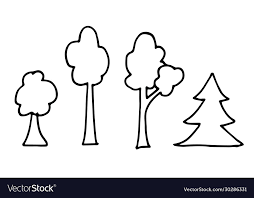tree: (124, 23, 177, 153), (180, 62, 239, 154), (7, 57, 61, 156), (66, 29, 111, 144)
